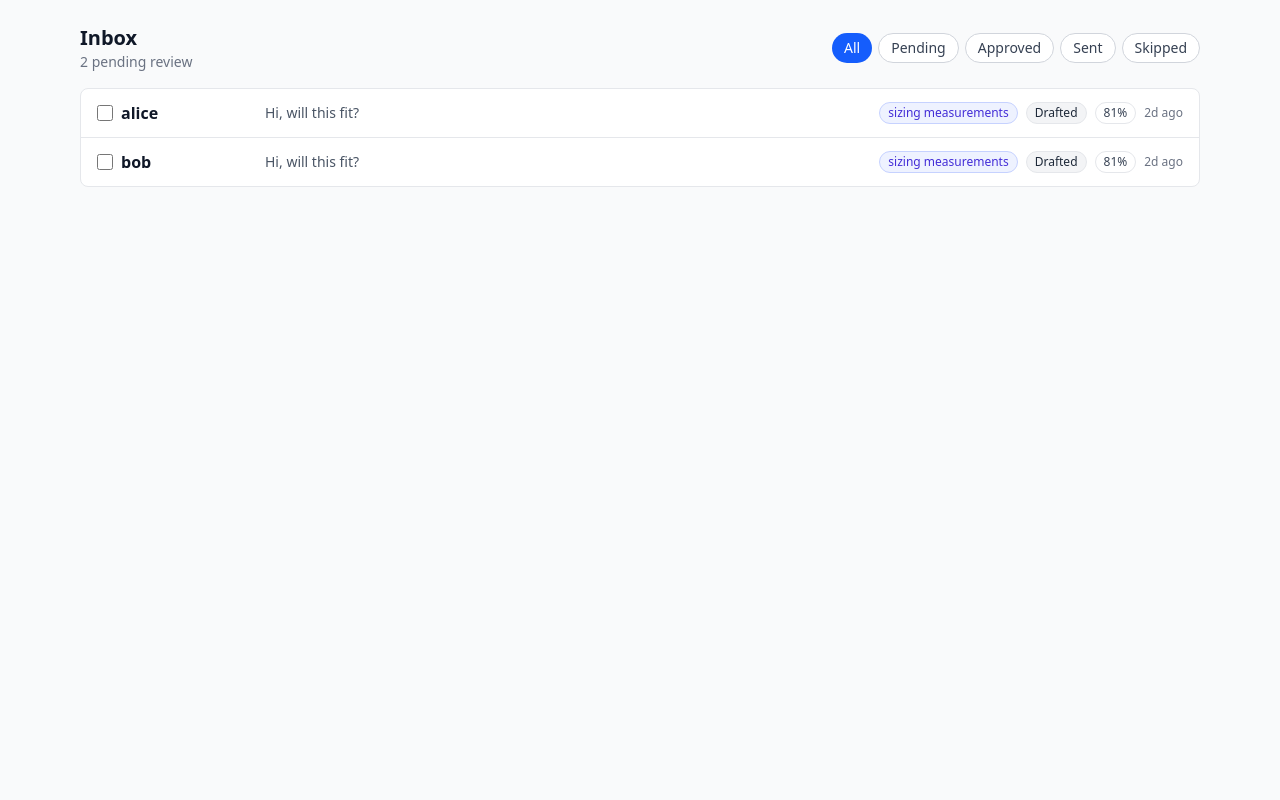
Test: InboxPage › batch-approve-by-category › hides batch bar when nothing selected; shows it when 1+ selected
This screenshot has width=1280, height=800.
Expected: the link with test id "row-m1" is shown, top-left (121, 102), bottom-right (1183, 124)
Click the checkbox with test id "select-m1": (105, 113) top-left (97, 105), bottom-right (113, 121)
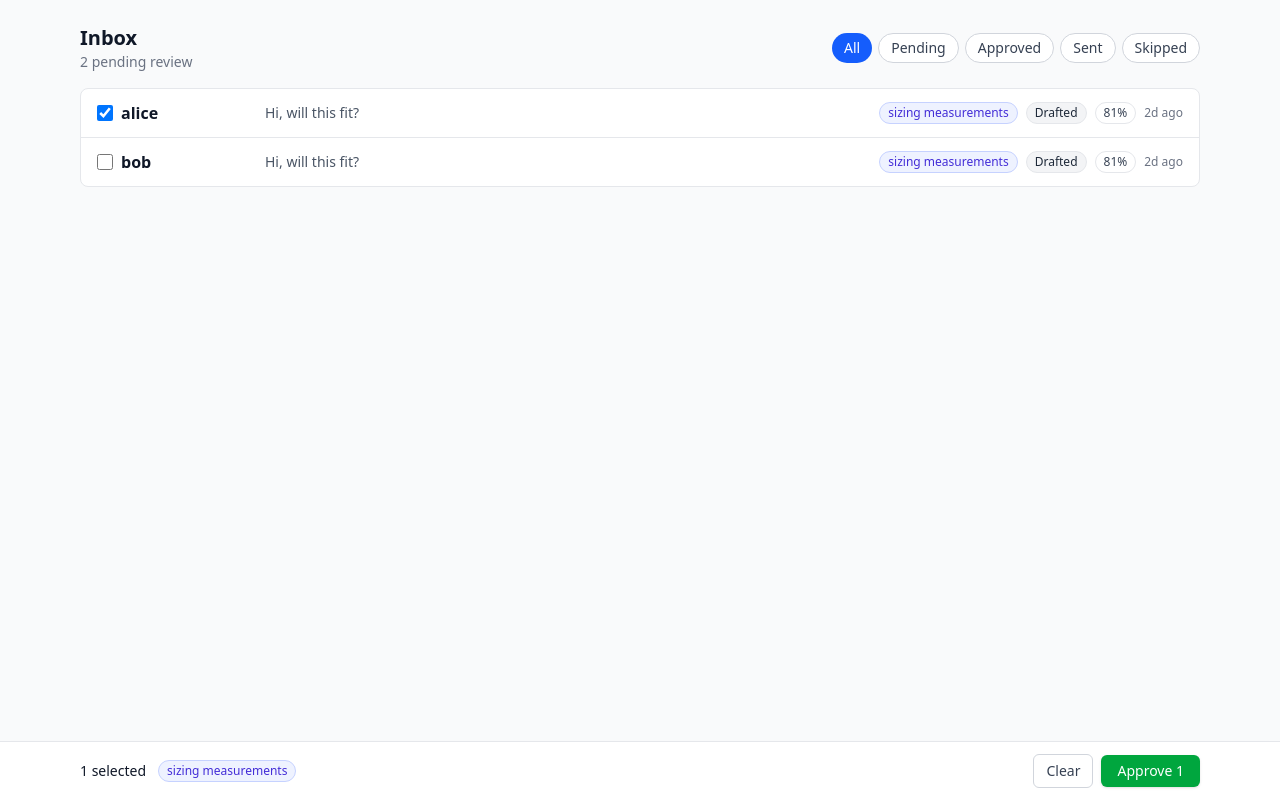
Result: the element with test id "batch-approve-bar" is shown at top-left (0, 741), bottom-right (1279, 799)
Result: the button with test id "batch-approve" reads "Approve 1" at top-left (1102, 755), bottom-right (1200, 787)
